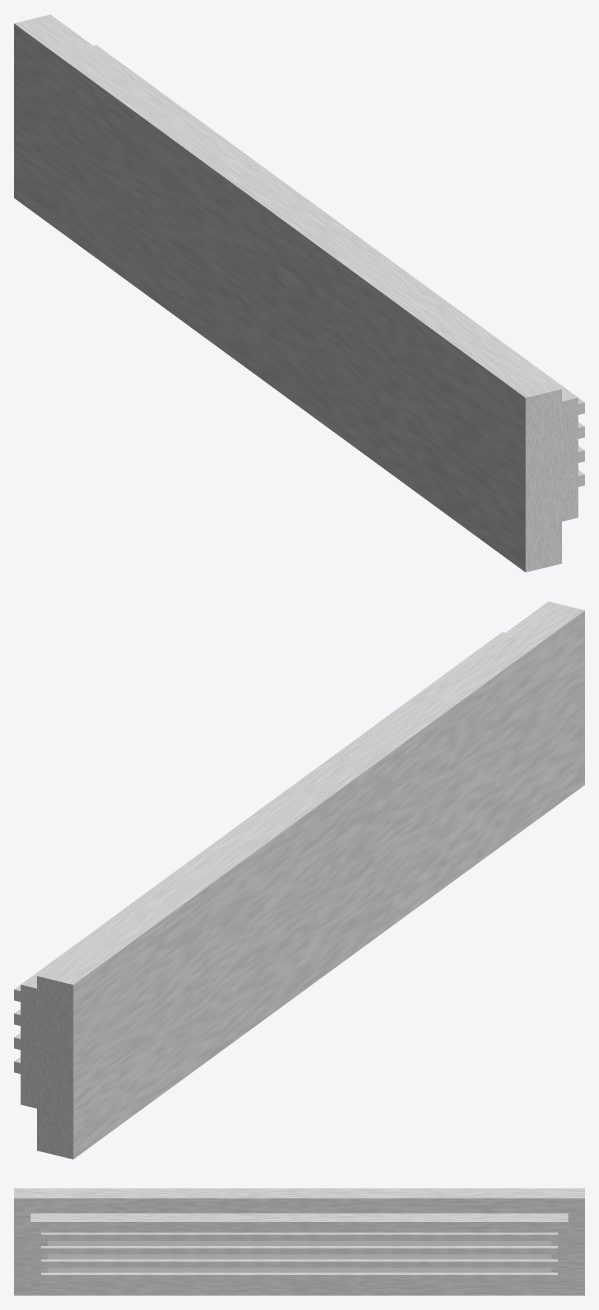
Rendered from slottedstonewalllight.obj.
3 views of the same model, one above another, from view 1: azimuth 30°, elevation 25°; view 2: azimuth 150°, elevation 25°; view 3: azimuth 270°, elevation 25° (orthographic). The views are drawn at different scales.
Parts seen in each view (by area): view 1: Base, Metal; view 2: Base, Metal; view 3: Base, Trim, Metal, Light0.
Boxes of the visible parts, <box> form: Base: <box>14,14,561,572</box>; Metal: <box>94,45,578,521</box>; Base: <box>37,601,584,1159</box>; Metal: <box>20,632,504,1108</box>; Base: <box>14,1188,584,1295</box>; Trim: <box>41,1232,557,1280</box>; Metal: <box>30,1213,568,1288</box>; Light0: <box>47,1241,551,1272</box>.
Bounding box in the file's own units: 0.08 × 0.16 × 0.85.
